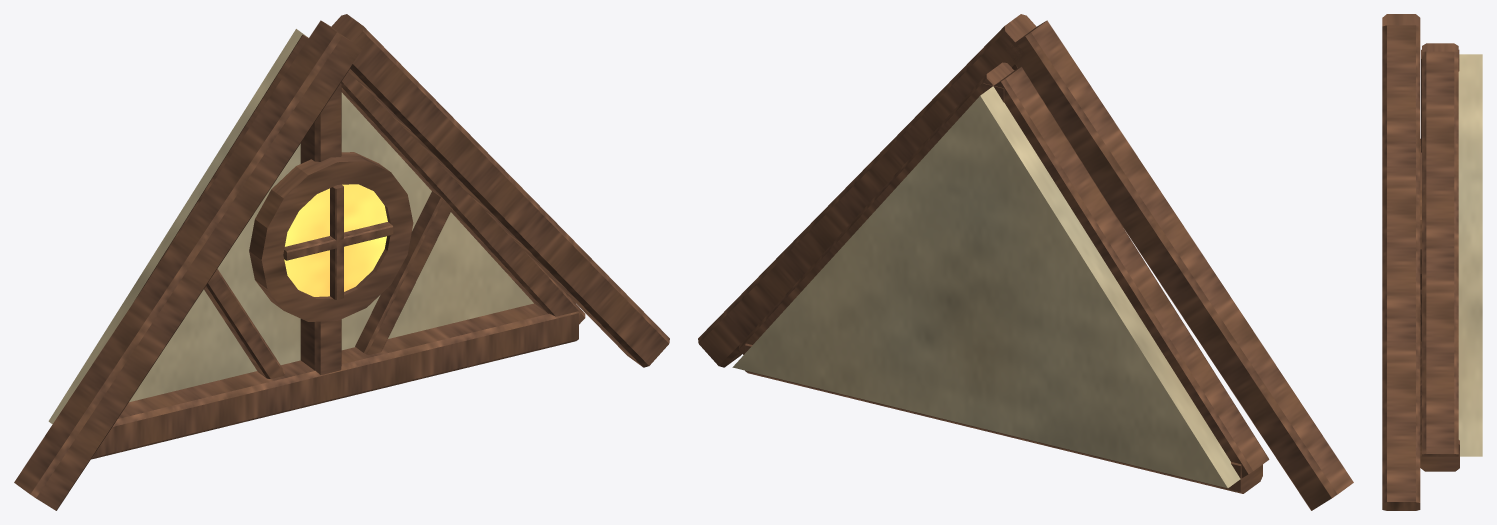
Rendered from gable_narrow.glb.
The picture shows the model from 3 angles, left to right: view 1: azimuth 30°, elevation 25°; view 2: azimuth 150°, elevation 25°; view 3: azimuth 270°, elevation 25°; orthographic projection. The views are drawn at different scales.
Parts seen in each view (by area): view 1: Gable Narrow; view 2: Gable Narrow; view 3: Gable Narrow.
Boxes of the visible parts, bbox=[...] form: Gable Narrow: bbox=[14, 14, 669, 510]; Gable Narrow: bbox=[698, 14, 1353, 510]; Gable Narrow: bbox=[1382, 14, 1482, 510].
Size of the model in its own units: 4.13 by 2.53 by 0.632.
3 materials, 3 textured.
